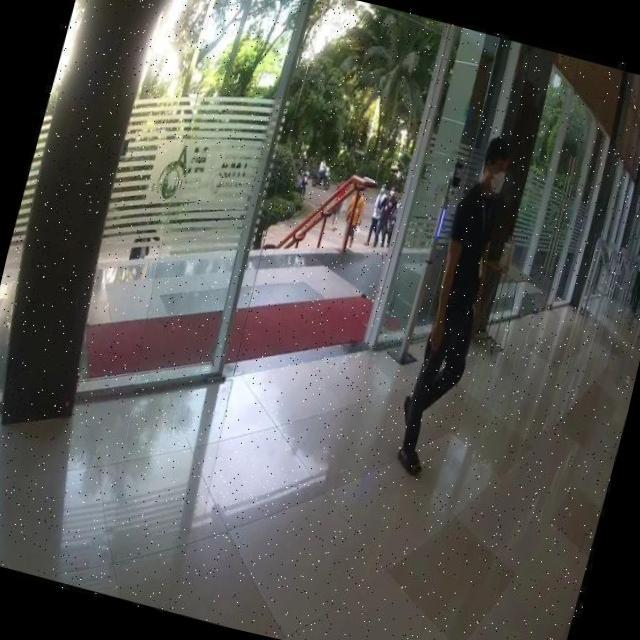person: (384, 130, 529, 490)
